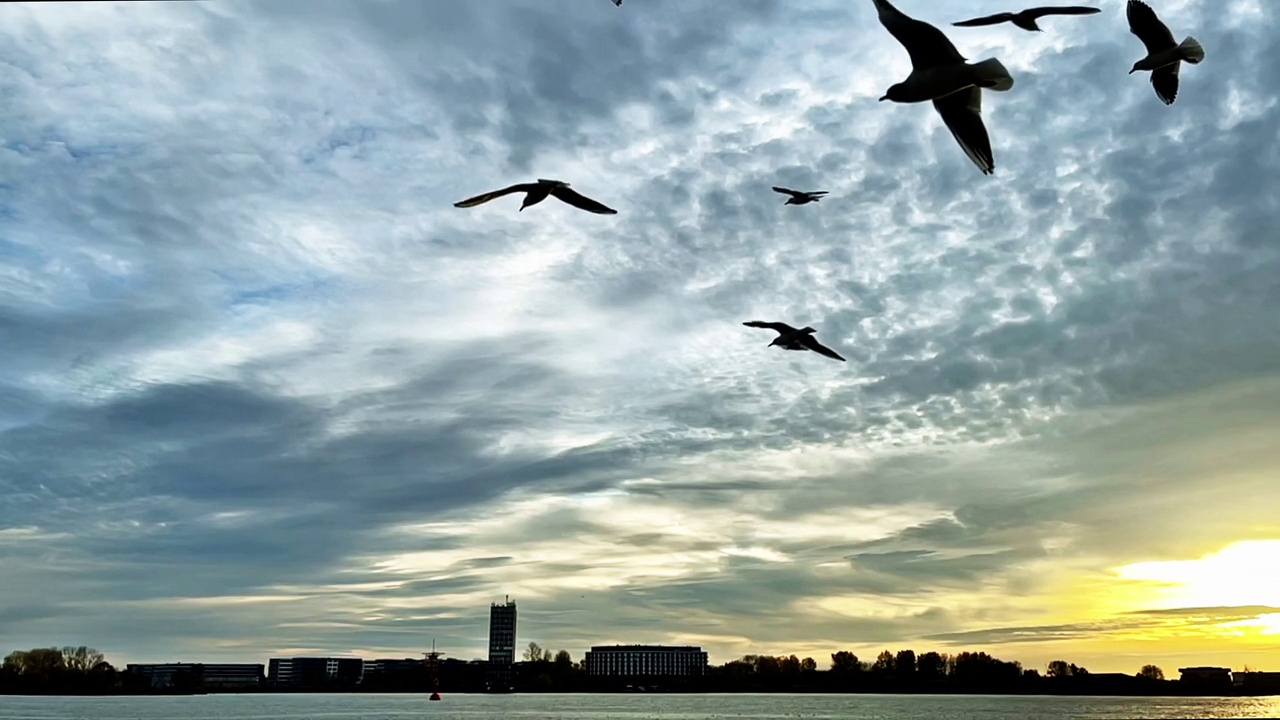bird: (874, 1, 1014, 174), (1123, 1, 1202, 106), (453, 180, 617, 216), (743, 320, 847, 363), (953, 2, 1101, 31), (770, 182, 827, 204)
